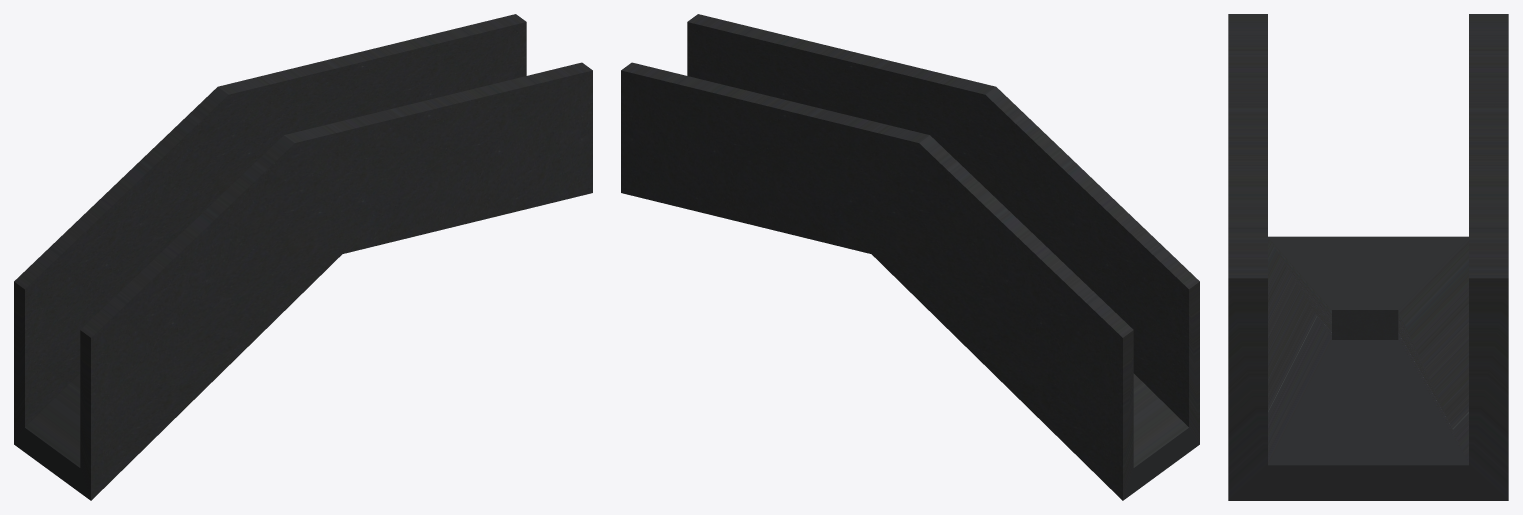
Rendered from Buttstock_Release_Lever.dae.
3 views of the same model, side by side, from view 1: azimuth 30°, elevation 25°; view 2: azimuth 150°, elevation 25°; view 3: azimuth 270°, elevation 25° (orthographic). The views are drawn at different scales.
Parts seen in each view (by area): view 1: Buttstock_Release_Lever; view 2: Buttstock_Release_Lever; view 3: Buttstock_Release_Lever.
Boxes of the visible parts, bbox=[...] form: Buttstock_Release_Lever: bbox=[14, 14, 592, 500]; Buttstock_Release_Lever: bbox=[621, 14, 1199, 500]; Buttstock_Release_Lever: bbox=[1228, 14, 1508, 500].
Size of the model in its own units: 0.0699 by 0.0186 by 0.041.
Materials: 1 (1 with a texture image).
